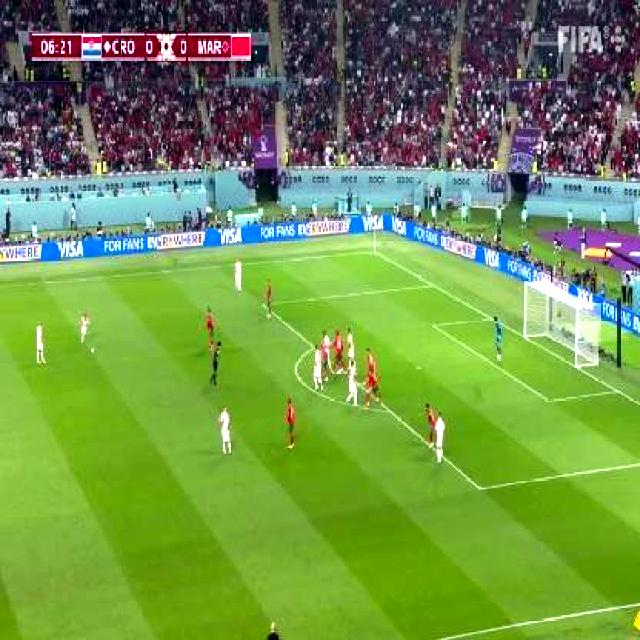bigarea_bottom_inner: (470, 475, 488, 500)
bigarea_top_inner: (256, 296, 270, 312)
bigarea_top_outter: (424, 277, 438, 292)
bottom_arc_area_intersection: (382, 402, 396, 418)
corner: (365, 245, 380, 257)
smallarea_bottom_inner: (540, 388, 557, 410)
smallarea_bottom_outter: (609, 382, 625, 398)
smallarea_top_inner: (426, 317, 440, 332)
smallarea_top_outter: (483, 309, 497, 326)
top_arc_area_intersection: (308, 338, 320, 354)
